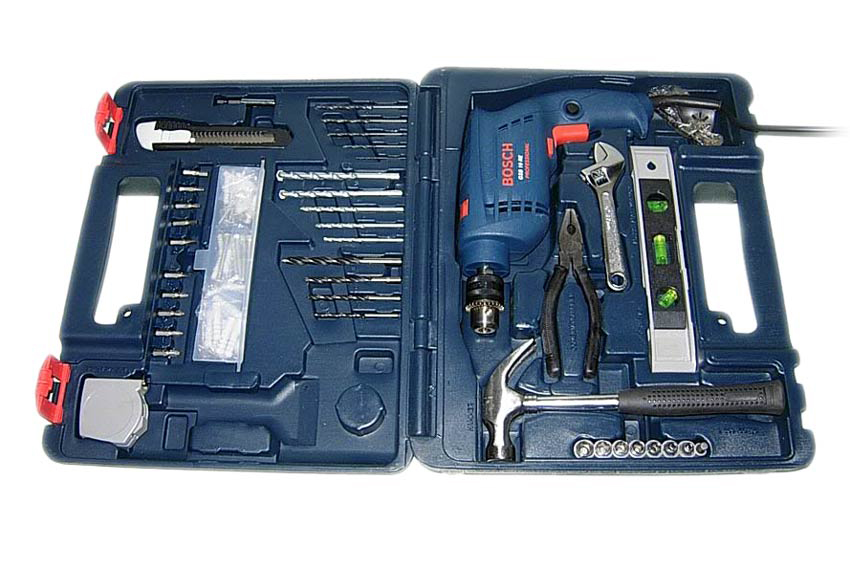Bosch: (499, 138, 516, 192)
